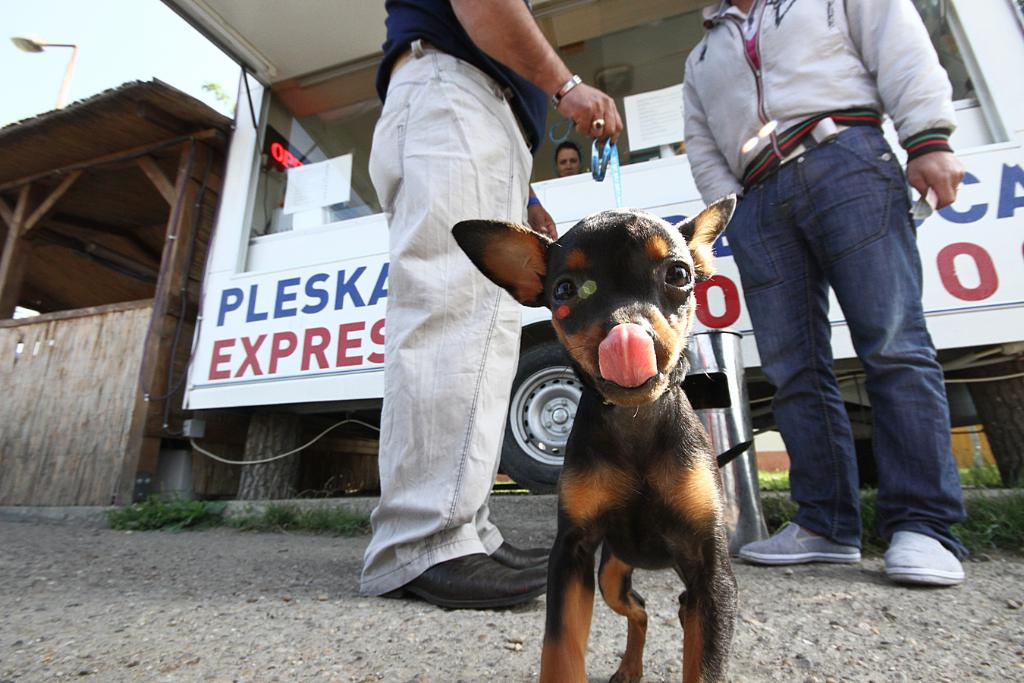Person: (680, 0, 967, 586), (358, 0, 623, 609), (556, 142, 584, 178)
